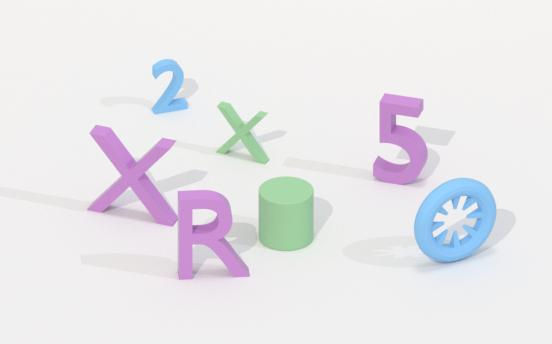2: (148, 56, 190, 116)
5: (370, 89, 428, 189)
R-hoa: (175, 183, 253, 287)
tron: (414, 174, 498, 266)
tru: (256, 175, 316, 253)
x: (85, 120, 180, 229), (213, 96, 270, 168)
